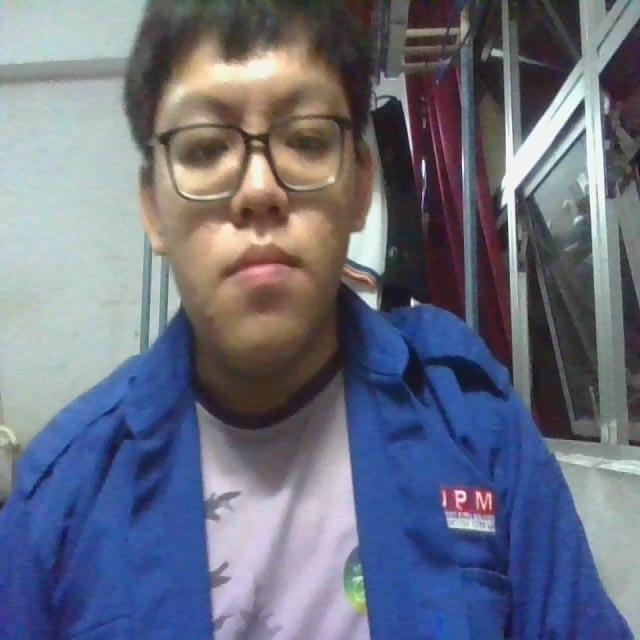person_with_labcoat: (0, 0, 630, 639)
